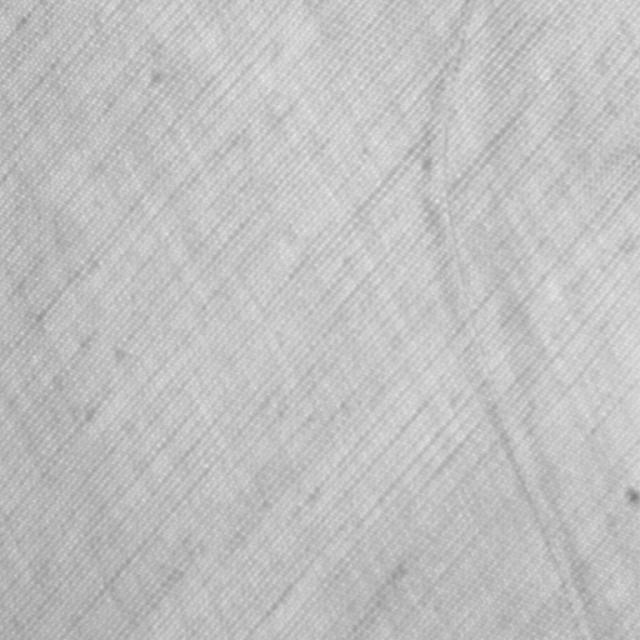objects: (434, 0, 615, 638)
